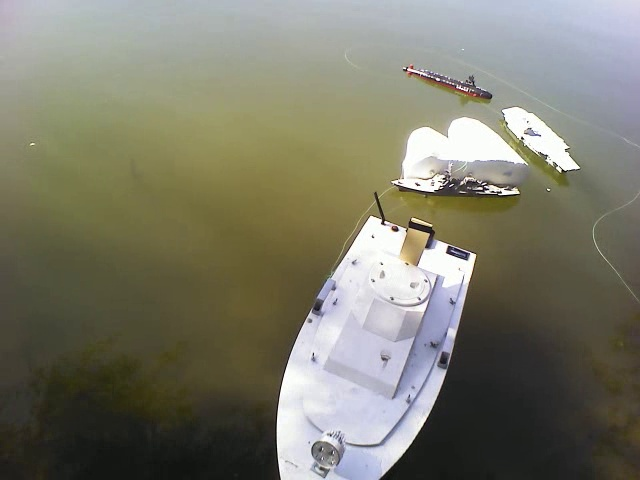aircraft_carrier: (504, 101, 584, 181)
boat: (272, 208, 481, 474)
iceberg: (402, 111, 532, 178)
submarine: (404, 59, 491, 105)
warship: (388, 170, 524, 203)
